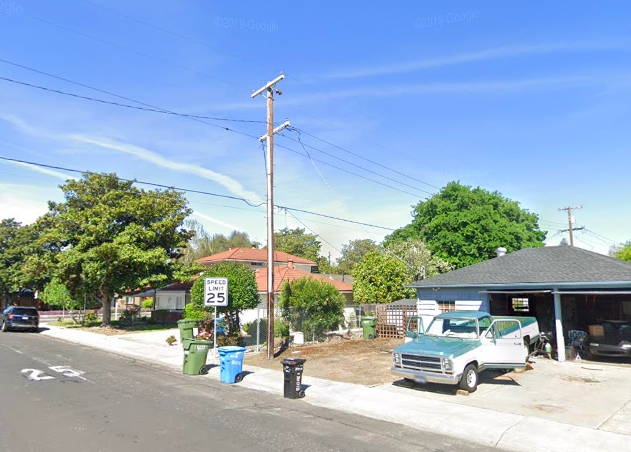tree: (30, 170, 197, 328)
utility_pole: (241, 64, 300, 155), (551, 200, 590, 239)
